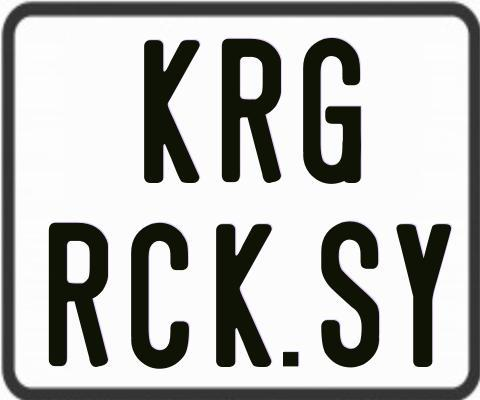C: (128, 221, 187, 367)
G: (303, 35, 366, 183)
K: (142, 38, 201, 187), (213, 223, 272, 372)
R: (49, 220, 113, 368), (221, 36, 280, 181)
S: (321, 219, 382, 369)
Y: (395, 222, 453, 371)
